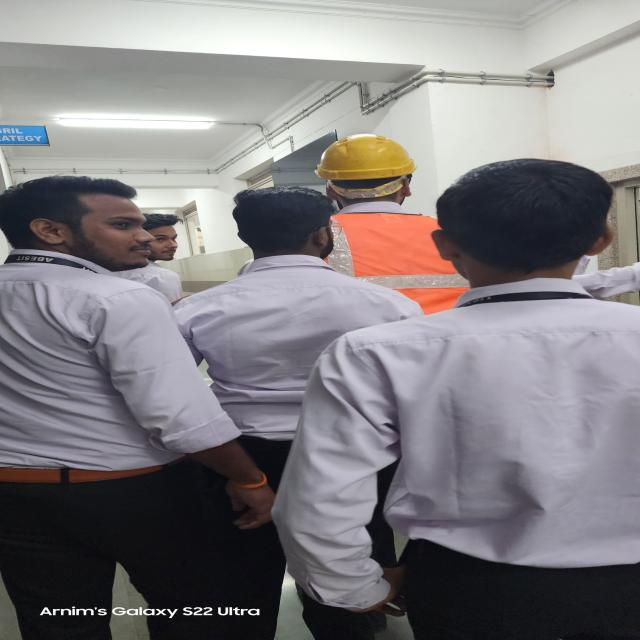unsafe: (268, 156, 640, 640), (0, 172, 270, 640), (173, 184, 429, 640)
